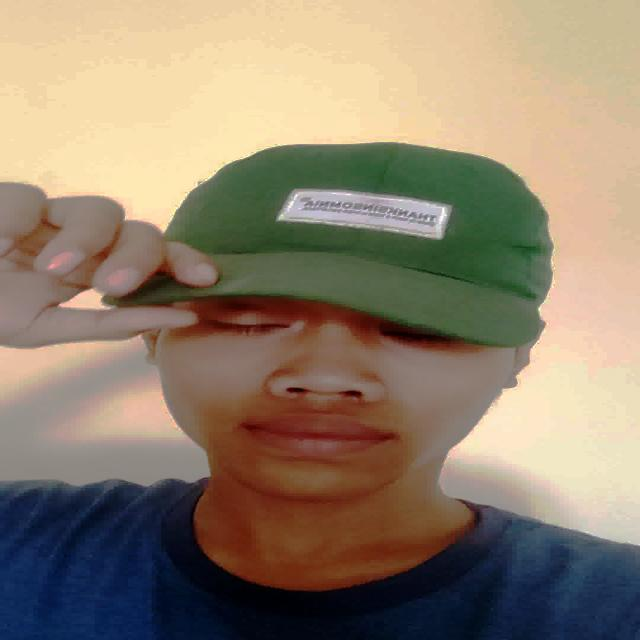TOPI: (140, 135, 568, 343)
